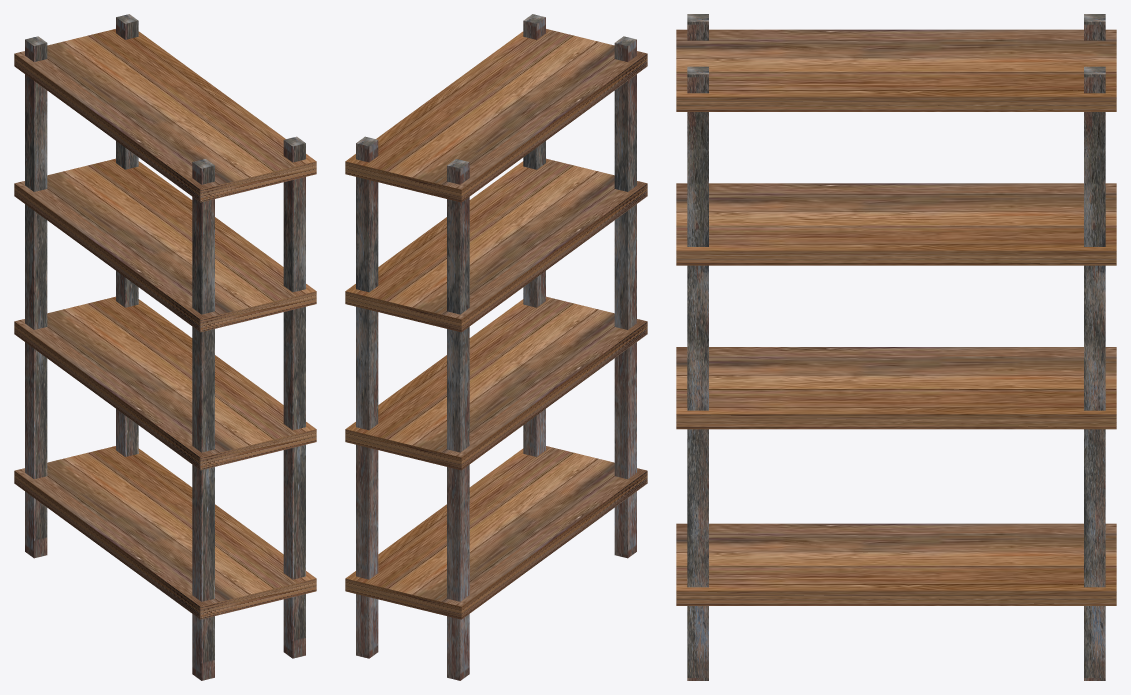
The model's file is cabinet1.fbx.
3 views of the same model, side by side, from view 1: azimuth 30°, elevation 25°; view 2: azimuth 150°, elevation 25°; view 3: azimuth 270°, elevation 25° (orthographic). The views are drawn at different scales.
Parts seen in each view (by area): view 1: Cube.003, Cube, Cube.001, Cube.002, Cube.007, Cube.008, Cube.005, Cube.004; view 2: Cube.003, Cube, Cube.001, Cube.002, Cube.005, Cube.004, Cube.007, Cube.008; view 3: Cube.003, Cube.001, Cube.002, Cube, Cube.008, Cube.004.
Part boxes in pixels (<box>): Cube.003: <box>14,29,316,202</box>; Cube: <box>14,446,316,619</box>; Cube.001: <box>14,296,316,470</box>; Cube.002: <box>14,158,316,332</box>; Cube.007: <box>192,159,214,680</box>; Cube.008: <box>283,136,305,658</box>; Cube.005: <box>25,36,47,558</box>; Cube.004: <box>116,14,138,456</box>; Cube.003: <box>345,29,647,202</box>; Cube: <box>345,446,647,619</box>; Cube.001: <box>345,296,647,470</box>; Cube.002: <box>345,158,647,332</box>; Cube.005: <box>447,159,469,680</box>; Cube.004: <box>356,136,378,658</box>; Cube.007: <box>614,36,636,558</box>; Cube.008: <box>523,14,545,456</box>; Cube.003: <box>676,29,1116,111</box>; Cube.001: <box>676,347,1116,429</box>; Cube.002: <box>676,183,1116,265</box>; Cube: <box>676,523,1116,605</box>; Cube.008: <box>687,66,708,680</box>; Cube.004: <box>1084,66,1105,680</box>.
Bounding box in the file's own units: 266 × 1123 × 739.
Materials: 8 (8 with a texture image).
